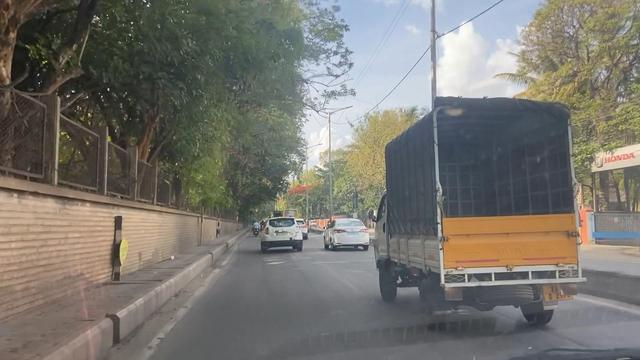HMV: (373, 104, 573, 323)
LMV: (262, 216, 305, 253)
